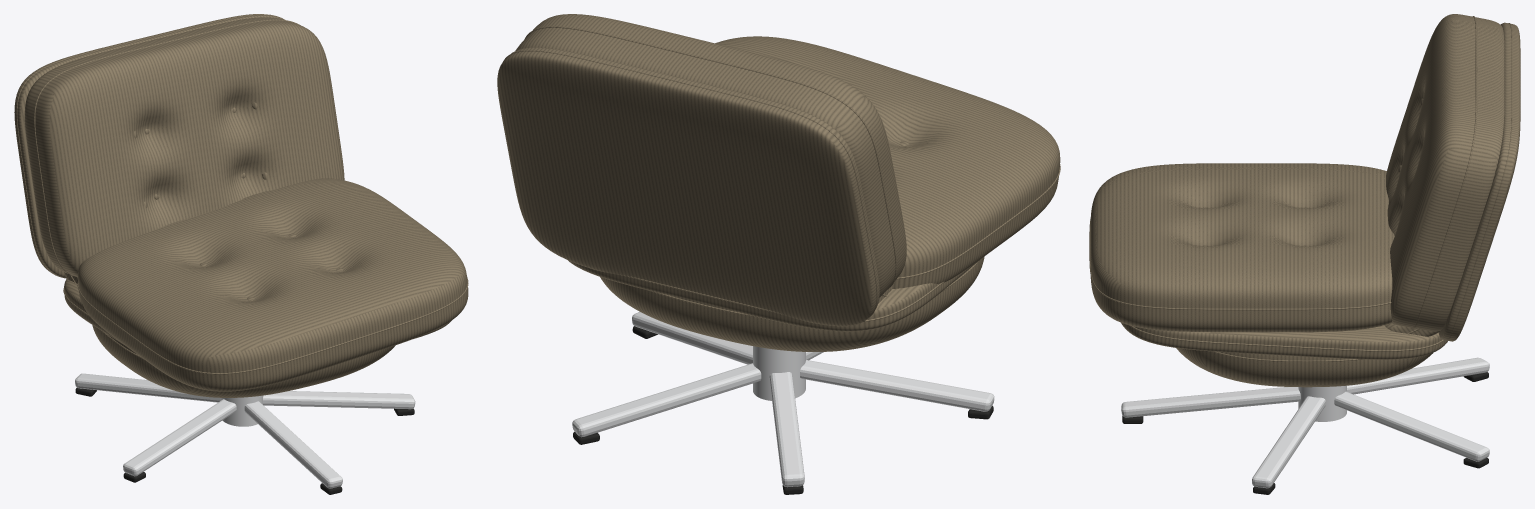
The picture shows the model from 3 angles, left to right: view 1: azimuth 30°, elevation 25°; view 2: azimuth 150°, elevation 25°; view 3: azimuth 270°, elevation 25°; orthographic projection. The views are drawn at different scales.
Visible parts, largest first — view 1: Asiento ancho abombado con pana transversal, Respaldo amplio con cuatro depresiones visibles, Vientre tapizado redondeado unido al eje, Envolvente posterior fina encajada, Radio cromado derecho delantero, Radio cromado izquierdo delantero, Radio cromado delantero, Radio cromado izquierdo trasero, Fundación fina integrada bajo el asiento, Núcleo cromado de cinco radios; view 2: Envolvente posterior fina encajada, Asiento ancho abombado con pana transversal, Respaldo amplio con cuatro depresiones visibles, Vientre tapizado redondeado unido al eje, Fundación fina integrada bajo el asiento, Radio cromado izquierdo delantero, Radio cromado derecho trasero, Radio cromado izquierdo trasero, Radio cromado derecho delantero, Núcleo cromado de cinco radios; view 3: Asiento ancho abombado con pana transversal, Respaldo amplio con cuatro depresiones visibles, Fundación fina integrada bajo el asiento, Vientre tapizado redondeado unido al eje, Envolvente posterior fina encajada, Radio cromado delantero, Radio cromado derecho trasero, Radio cromado derecho delantero, Radio cromado izquierdo trasero, Núcleo cromado de cinco radios.
Boxes of the visible parts, x1,y1,x2,y2 form: Asiento ancho abombado con pana transversal: (77, 178, 468, 391); Respaldo amplio con cuatro depresiones visibles: (24, 17, 344, 277); Vientre tapizado redondeado unido al eje: (92, 325, 395, 397); Envolvente posterior fina encajada: (14, 14, 284, 278); Radio cromado derecho delantero: (263, 391, 415, 409); Radio cromado izquierdo delantero: (123, 399, 236, 476); Radio cromado delantero: (244, 401, 342, 488); Radio cromado izquierdo trasero: (75, 373, 220, 402); Fundación fina integrada bajo el asiento: (63, 278, 451, 343); Núcleo cromado de cinco radios: (220, 395, 263, 426); Envolvente posterior fina encajada: (497, 47, 879, 326); Asiento ancho abombado con pana transversal: (715, 36, 1060, 288); Respaldo amplio con cuatro depresiones visibles: (515, 14, 906, 297); Vientre tapizado redondeado unido al eje: (600, 256, 984, 351); Fundación fina integrada bajo el asiento: (568, 259, 980, 331); Radio cromado izquierdo delantero: (800, 360, 994, 411); Radio cromado derecho trasero: (572, 363, 761, 437); Radio cromado izquierdo trasero: (769, 372, 804, 487); Radio cromado derecho delantero: (632, 312, 752, 364); Núcleo cromado de cinco radios: (753, 346, 805, 400); Asiento ancho abombado con pana transversal: (1089, 163, 1394, 332); Respaldo amplio con cuatro depresiones visibles: (1386, 14, 1504, 331); Fundación fina integrada bajo el asiento: (1121, 322, 1447, 359); Vientre tapizado redondeado unido al eje: (1176, 348, 1432, 387); Envolvente posterior fina encajada: (1439, 22, 1520, 341); Radio cromado delantero: (1121, 387, 1300, 417); Radio cromado derecho trasero: (1334, 391, 1489, 461); Radio cromado derecho delantero: (1252, 396, 1325, 488); Radio cromado izquierdo trasero: (1347, 357, 1489, 394); Núcleo cromado de cinco radios: (1298, 385, 1346, 421).
Size of the model in its own units: 0.63 by 0.68 by 0.75.
Materials: 5 (2 with a texture image).
